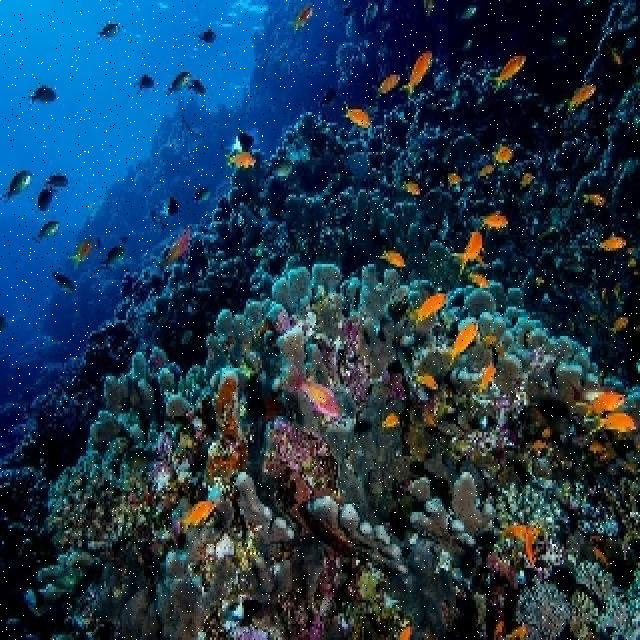fish: (286, 362, 339, 416), (400, 51, 432, 98), (576, 391, 624, 422), (454, 231, 488, 273), (2, 170, 35, 213), (487, 55, 525, 92), (443, 323, 479, 362), (181, 500, 217, 530), (160, 234, 192, 267), (593, 412, 638, 433), (416, 293, 448, 320), (289, 3, 313, 37), (343, 100, 370, 127), (474, 361, 497, 392), (569, 84, 595, 108), (374, 75, 400, 98), (599, 231, 627, 252), (230, 151, 260, 168), (525, 528, 540, 561), (479, 213, 508, 230), (502, 522, 530, 539), (492, 144, 514, 164), (381, 250, 406, 266), (413, 374, 438, 386), (584, 194, 605, 206), (384, 413, 400, 427), (397, 625, 412, 637)
reefs: (37, 264, 601, 599), (314, 495, 412, 575), (408, 474, 490, 557), (232, 472, 297, 555)
